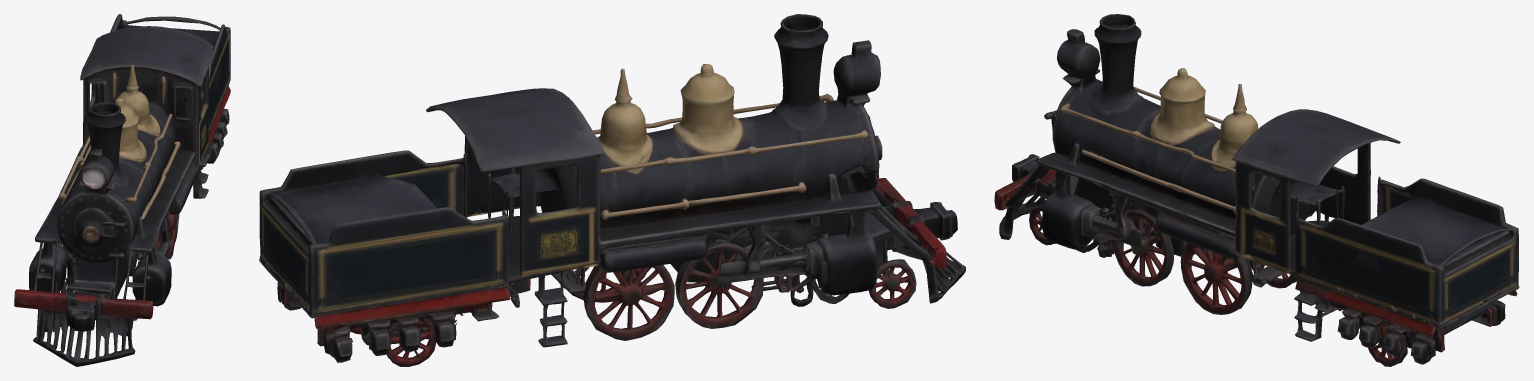
The model's file is locomotora.glb.
3 views of the same model, side by side, from view 1: azimuth 30°, elevation 25°; view 2: azimuth 150°, elevation 25°; view 3: azimuth 270°, elevation 25° (orthographic). The views are drawn at different scales.
Parts seen in each view (by area): view 1: geometry_0; view 2: geometry_0; view 3: geometry_0.
Boxes of the visible parts, x1,y1,x2,y2 form: geometry_0: (14,14,230,366); geometry_0: (259,14,965,366); geometry_0: (994,14,1519,366).
Bounding box in the file's own units: 0.917 × 0.4906 × 0.9993.
Materials: 1 (1 with a texture image).
